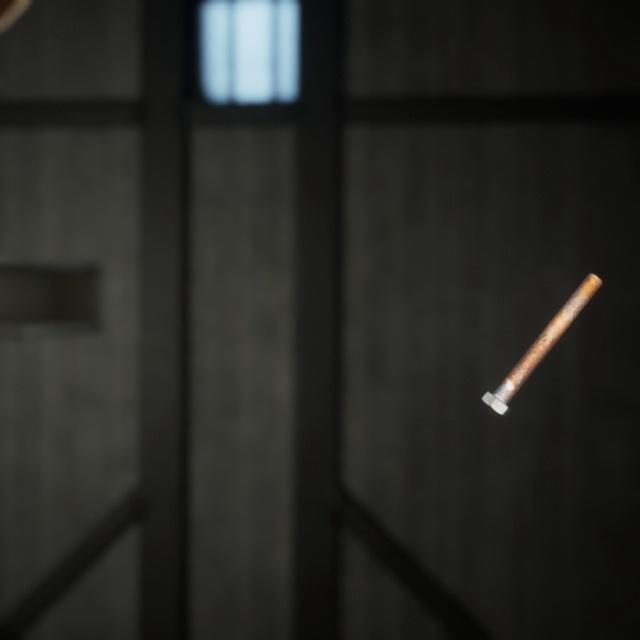bolt: (477, 250, 607, 403)
